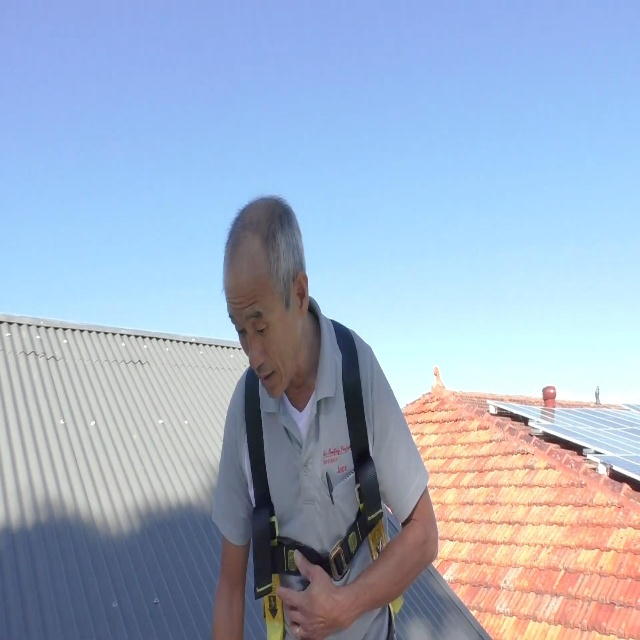Arnes_seguridad: (242, 322, 402, 640)
